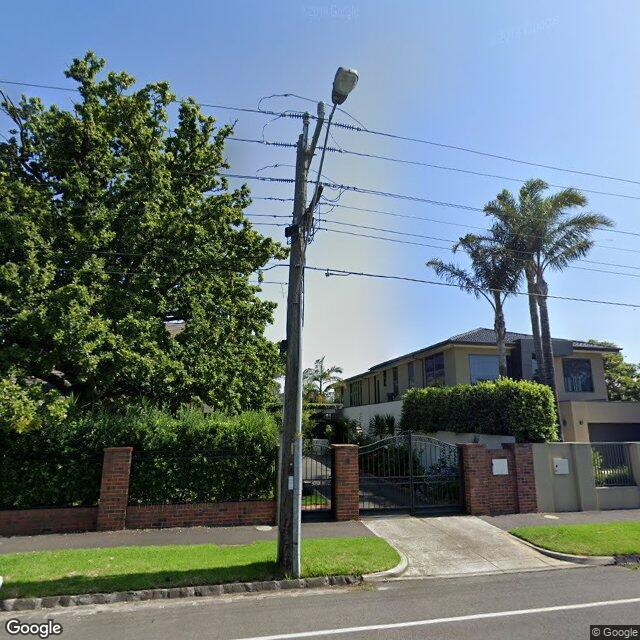HV-transmission: (258, 113, 361, 190), (302, 100, 324, 122)
crossarm: (308, 120, 324, 170), (307, 185, 324, 212)
streetlight: (301, 67, 358, 267)
timber-pole: (277, 133, 309, 580)
